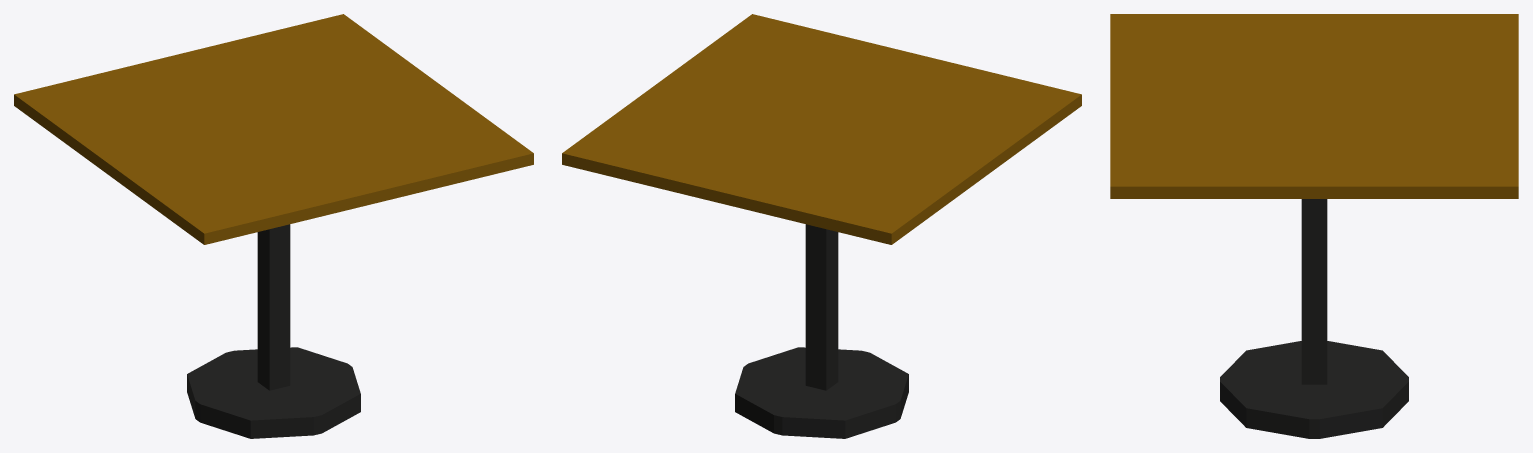
The model's file is cafeTable.fbx.
3 views of the same model, side by side, from view 1: azimuth 30°, elevation 25°; view 2: azimuth 150°, elevation 25°; view 3: azimuth 270°, elevation 25° (orthographic). The views are drawn at different scales.
Parts seen in each view (by area): view 1: cafeTable; view 2: cafeTable; view 3: cafeTable.
Part boxes in pixels (left/top/right/bottom): cafeTable: left=14, top=14, right=533, bottom=438; cafeTable: left=562, top=14, right=1081, bottom=438; cafeTable: left=1110, top=14, right=1518, bottom=438.
Size of the model in its own units: 216 by 175 by 216.
